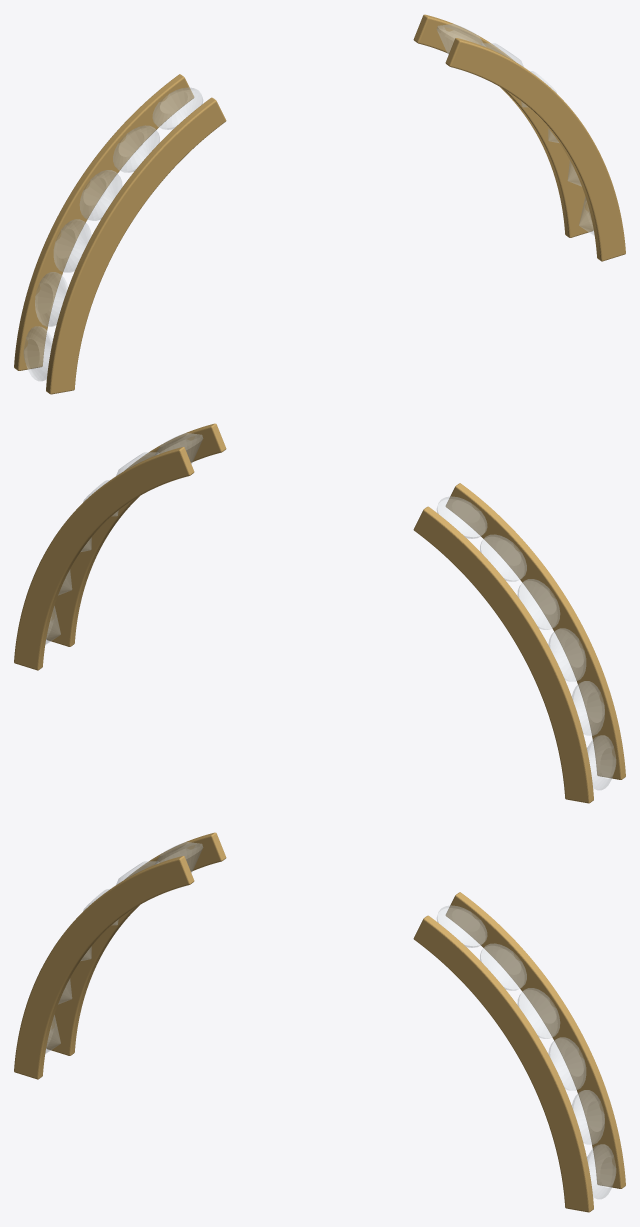
The model's file is accents-channel.glb.
3 renders of one model, top to bottom at view 1: azimuth 30°, elevation 25°; view 2: azimuth 150°, elevation 25°; view 3: azimuth 330°, elevation 25°, orthographic.
Parts seen in each view (by area): view 1: Channel wall, Channel wall.001, Channel wall.002, Channel wall.003, Gem.002, Gem.001, Gem.003, Gem, Gem.004, Gem.005, Gem.006; view 2: Channel wall.001, Channel wall, Channel wall.003, Channel wall.002, Gem.002, Gem.001, Gem.003, Gem, Gem.004, Gem.005, Gem.006; view 3: Channel wall.002, Channel wall.003, Channel wall, Channel wall.001, Gem.008, Gem.007, Gem.009, Gem.006, Gem.010, Gem.011, Gem.
Boxes of the visible parts, x1,y1,x2,y2 form: Channel wall: (46,97,226,394); Channel wall.001: (14,74,194,370); Channel wall.002: (445,38,625,261); Channel wall.003: (413,14,593,237); Gem.002: (80,170,122,220); Gem.001: (113,125,159,172); Gem.003: (54,219,91,272); Gem: (152,87,202,129); Gem.004: (35,272,67,326); Gem.005: (24,326,52,380); Gem.006: (437,24,485,54); Channel wall.001: (413,506,593,803); Channel wall: (445,483,625,779); Channel wall.003: (14,447,194,670); Channel wall.002: (46,423,226,646); Gem.002: (517,579,559,629); Gem.001: (480,534,526,581); Gem.003: (548,628,585,681); Gem: (437,496,487,538); Gem.004: (572,681,604,735); Gem.005: (587,735,615,789); Gem.006: (154,433,202,463); Channel wall.002: (413,915,593,1212); Channel wall.003: (445,892,625,1188); Channel wall: (14,856,194,1079); Channel wall.001: (46,832,226,1055); Gem.008: (517,988,559,1038); Gem.007: (480,943,526,990); Gem.009: (548,1037,585,1090); Gem.006: (437,905,487,947); Gem.010: (572,1090,604,1144); Gem.011: (587,1144,615,1198); Gem: (154,842,202,872).
Bounding box in the file's own units: 19.89 × 8.36 × 2.19.
